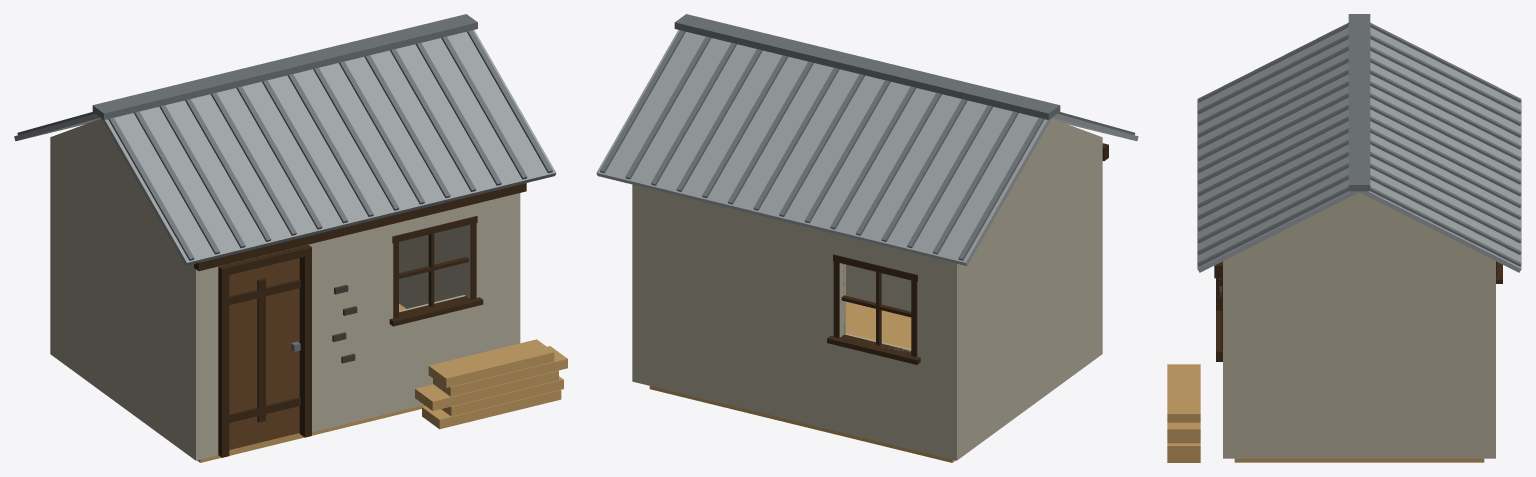
Rendered from Shed.glb.
3 renders of one model, left to right at view 1: azimuth 30°, elevation 25°; view 2: azimuth 150°, elevation 25°; view 3: azimuth 270°, elevation 25°, orthographic. The views are drawn at different scales.
Visible parts, largest first — view 1: Roof-1, End, FrontLo, Door, Ridge, FrontA, End.001, FrontHi, Plank4, FrontB, Lintel, FrontL (+26 smaller); view 2: Roof1, End, BackLo, BackB, BackHi, Ridge, Floor, End.001, BackA, FrontLo, BackWSill, Rib1_3 (+17 smaller); view 3: End.001, Roof-1, Roof1, Ridge, Plank4, Floor, Rib1_11, Rib-1_4, Rib1_4, Rib-1_11, Rib-1_13, Rib-1_6 (+26 smaller).
Boxes of the visible parts, box(x1,y1,x2,y2) form: Roof-1: box(101, 30, 556, 265); End: box(50, 118, 206, 460); FrontLo: box(312, 290, 509, 432); Door: box(229, 258, 300, 449); Ridge: box(92, 14, 477, 119); FrontA: box(312, 243, 393, 337); End.001: box(399, 193, 520, 345); FrontHi: box(308, 195, 509, 262); Plank4: box(428, 339, 554, 387); FrontB: box(464, 214, 509, 298); Lintel: box(194, 183, 526, 271); FrontL: box(206, 266, 218, 457); Roof1: box(596, 30, 1051, 265); End: box(946, 119, 1102, 460); BackLo: box(643, 290, 945, 457); BackB: box(643, 214, 845, 337); BackHi: box(643, 187, 945, 288); Ridge: box(674, 14, 1060, 119); Floor: box(649, 301, 955, 462); End.001: box(632, 184, 643, 383); BackA: box(917, 281, 945, 363); FrontLo: box(846, 264, 911, 311); BackWSill: box(827, 334, 920, 364); Rib1_3: box(881, 99, 967, 241); End.001: box(1223, 192, 1495, 458); Roof-1: box(1197, 27, 1360, 272); Roof1: box(1360, 27, 1521, 272); Ridge: box(1348, 14, 1370, 191); Plank4: box(1167, 364, 1200, 422); Floor: box(1234, 458, 1484, 462); Rib1_11: box(1370, 151, 1521, 231); Rib-1_4: box(1197, 69, 1348, 149); Rib1_4: box(1370, 69, 1521, 149); Rib-1_11: box(1197, 151, 1348, 231); Rib-1_13: box(1197, 175, 1348, 254); Rib-1_6: box(1197, 93, 1348, 172).
Bounding box in the file's own units: 4.15 × 3.33 × 3.63.
